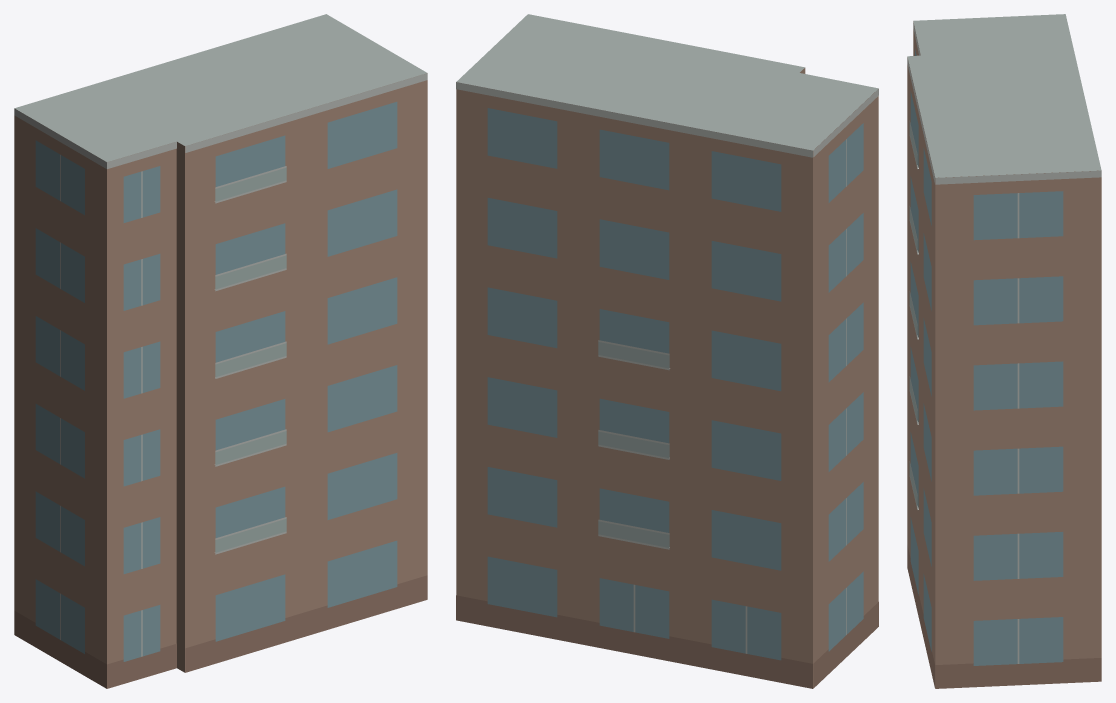
Rendered from survey-upis-33034598.glb.
3 views of the same model, side by side, from view 1: azimuth 30°, elevation 25°; view 2: azimuth 150°, elevation 25°; view 3: azimuth 270°, elevation 25° (orthographic). The views are drawn at different scales.
Parts seen in each view (by area): view 1: survey-upis-33034598.tmp; view 2: survey-upis-33034598.tmp; view 3: survey-upis-33034598.tmp.
Boxes of the visible parts, left/top/right/bottom form: survey-upis-33034598.tmp: left=14, top=14, right=427, bottom=688; survey-upis-33034598.tmp: left=456, top=14, right=878, bottom=688; survey-upis-33034598.tmp: left=907, top=14, right=1101, bottom=688.
Bounding box in the file's own units: 12.6 × 18.3 × 6.32.
